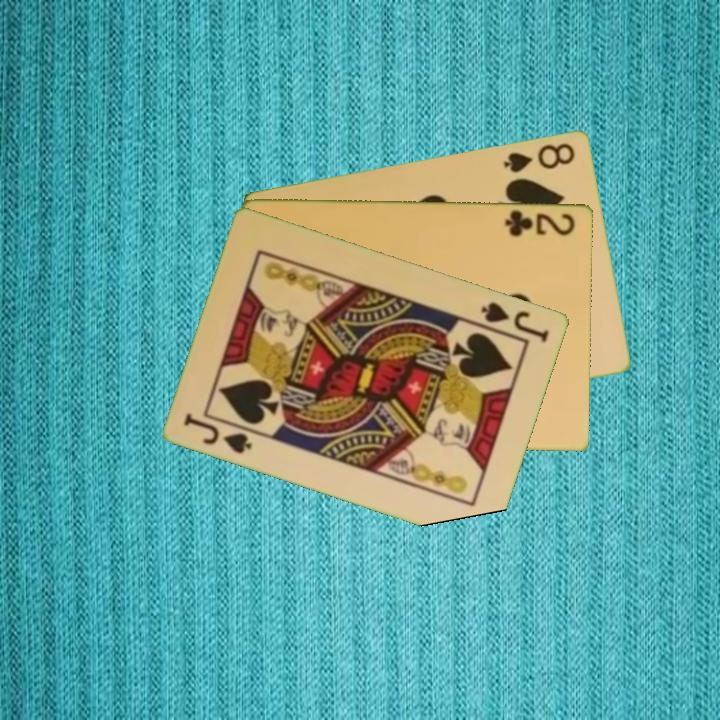2c: (501, 206, 578, 239)
8s: (500, 139, 578, 175)
Js: (478, 298, 553, 346), (181, 409, 255, 456)
